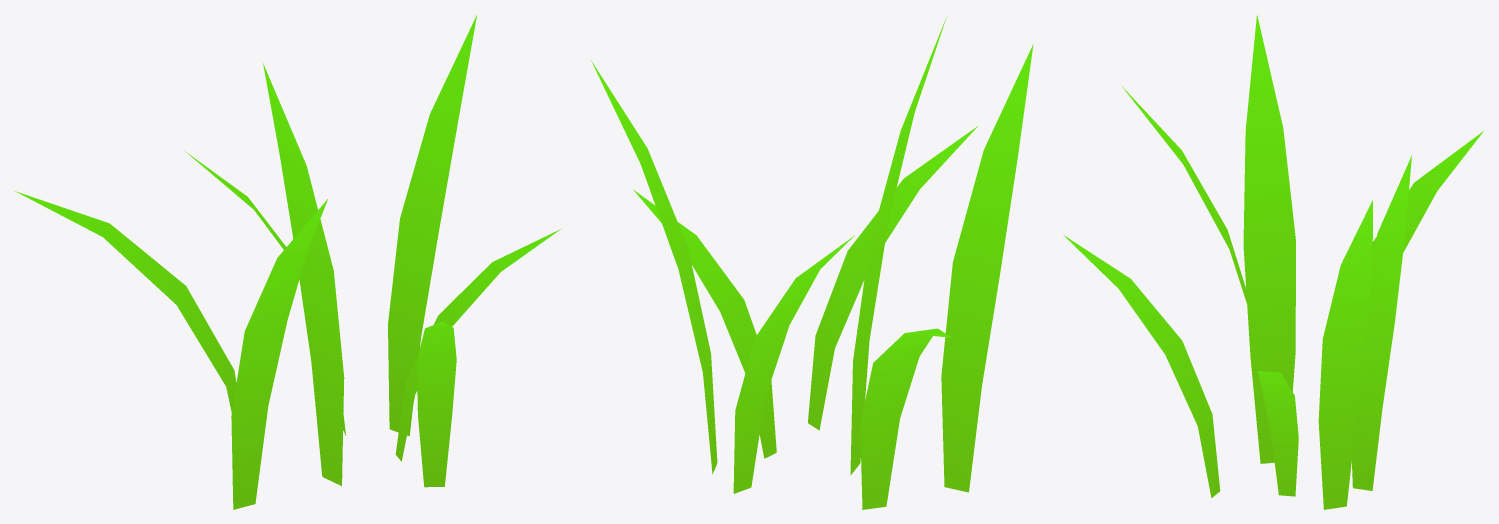
Rendered from SM Grass Solid Patch.fbx.
The picture shows the model from 3 angles, left to right: view 1: azimuth 30°, elevation 25°; view 2: azimuth 150°, elevation 25°; view 3: azimuth 270°, elevation 25°; orthographic projection. The views are drawn at different scales.
Parts seen in each view (by area): view 1: PF_Grass_Solid_Patch__13_; view 2: PF_Grass_Solid_Patch__13_; view 3: PF_Grass_Solid_Patch__13_.
Boxes of the visible parts, <box> form: PF_Grass_Solid_Patch__13_: <box>15,15,560,509</box>; PF_Grass_Solid_Patch__13_: <box>591,17,1033,509</box>; PF_Grass_Solid_Patch__13_: <box>1063,15,1483,509</box>.
Size of the model in its own units: 46.73 by 46.68 by 43.21.
